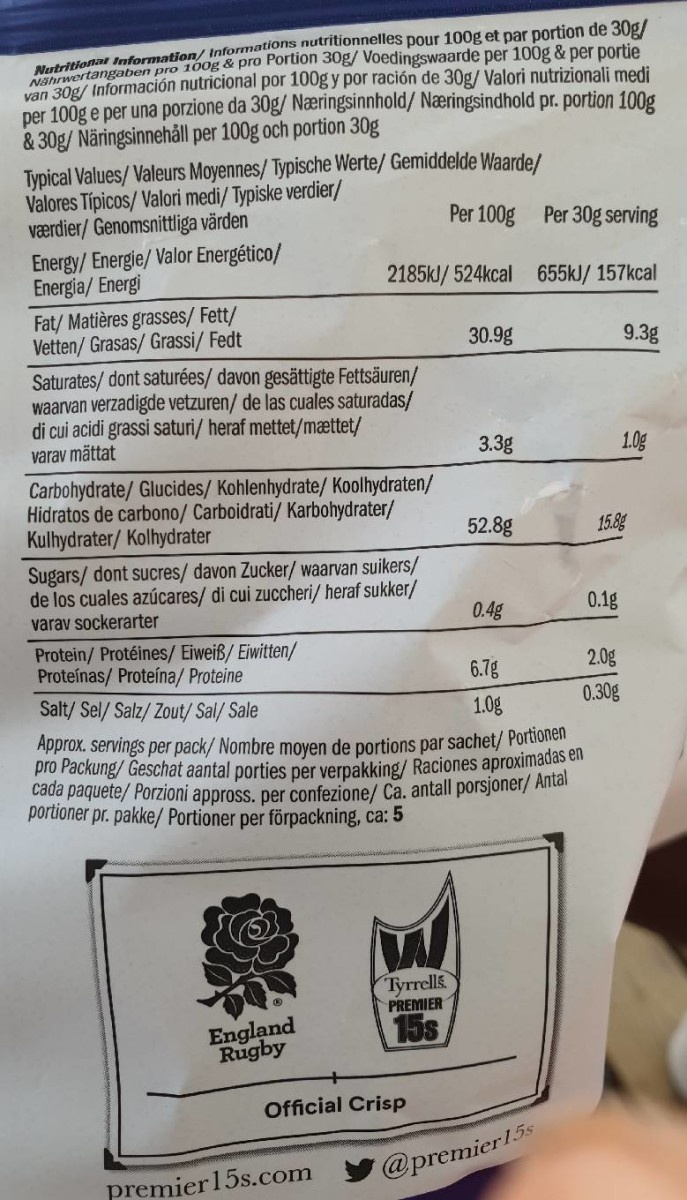column: (26, 242, 433, 719), (536, 203, 664, 700), (446, 199, 521, 715)
table: (12, 154, 666, 724)
